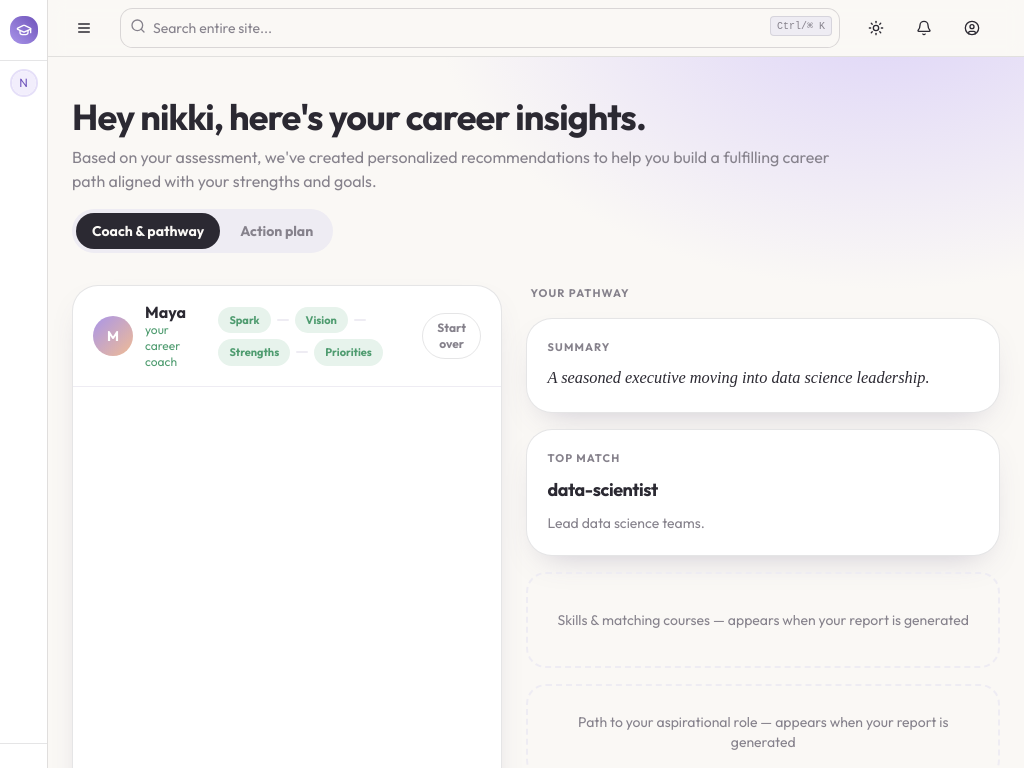
it: CareerPathway view switch › swaps the panels when the plan tab is chosen
The width and height of the screenshot is (1024, 768).
Click the tab with test id "pathway-view-plan" at (277, 231), box x1=224 y1=213 x2=329 y2=249
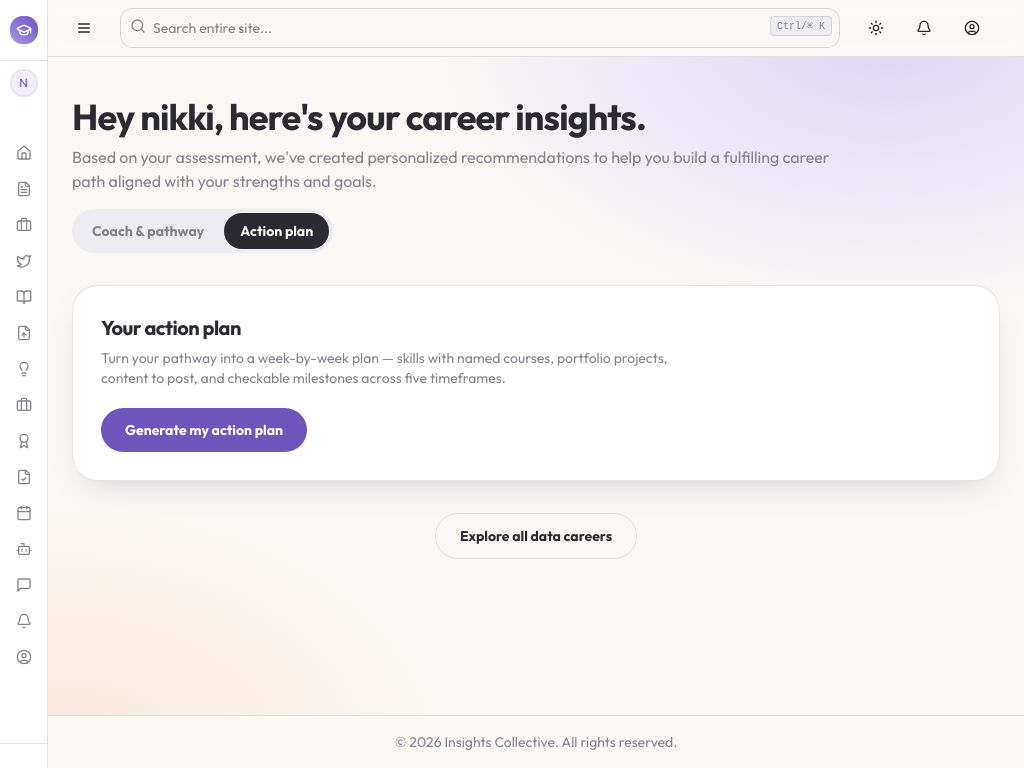
Now the element with test id "action-plan-section" is shown, box x1=72 y1=285 x2=1000 y2=481
